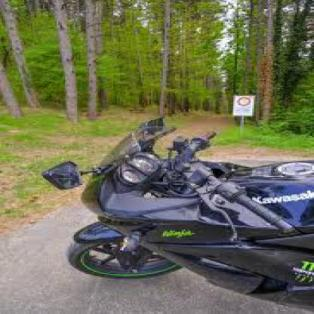Motocicleta: (41, 104, 312, 312)
